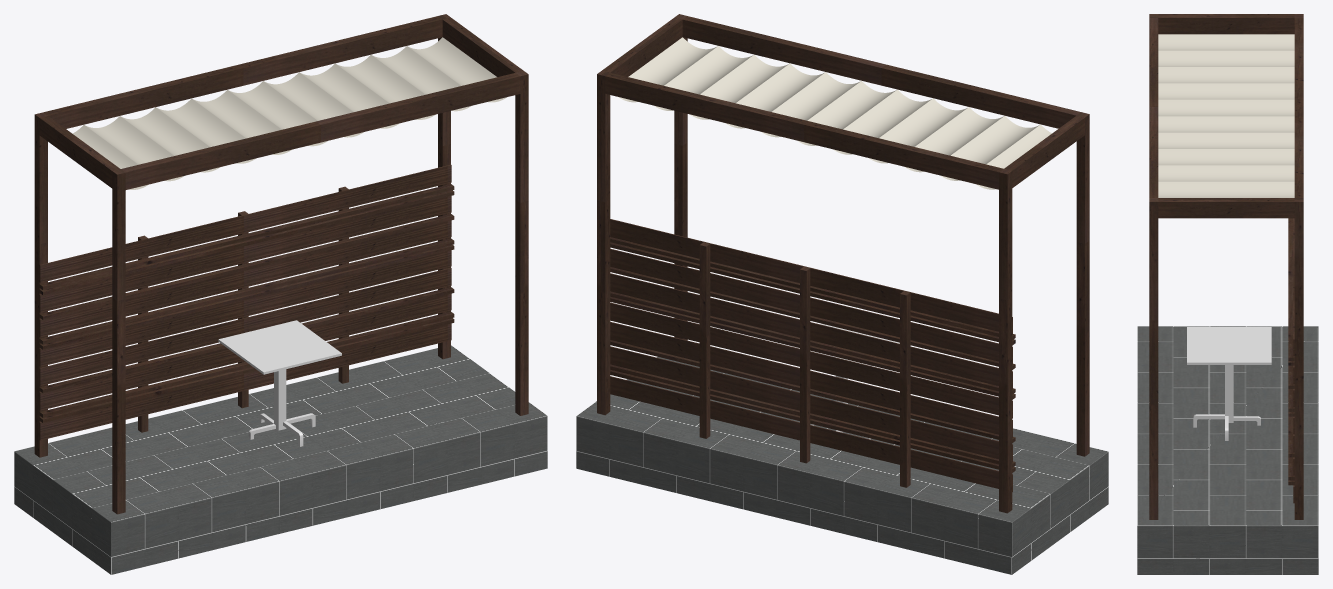
The model's file is fp25-g_w39-d15_darkpine.fbx.
The picture shows the model from 3 angles, left to right: view 1: azimuth 30°, elevation 25°; view 2: azimuth 150°, elevation 25°; view 3: azimuth 270°, elevation 25°; orthographic projection. The views are drawn at different scales.
Visible parts, largest first — view 1: fp25-g_w39-d15_darkpine_ファニチャーなし.001; view 2: fp25-g_w39-d15_darkpine_ファニチャーなし.001; view 3: fp25-g_w39-d15_darkpine_ファニチャーなし.001.
Boxes of the visible parts, <box> form: fp25-g_w39-d15_darkpine_ファニチャーなし.001: <box>14,14,547,574</box>; fp25-g_w39-d15_darkpine_ファニチャーなし.001: <box>576,14,1108,574</box>; fp25-g_w39-d15_darkpine_ファニチャーなし.001: <box>1137,14,1318,574</box>.
Bounding box in the file's own units: 390 × 335 × 150.
Materials: 6 (4 with a texture image).
